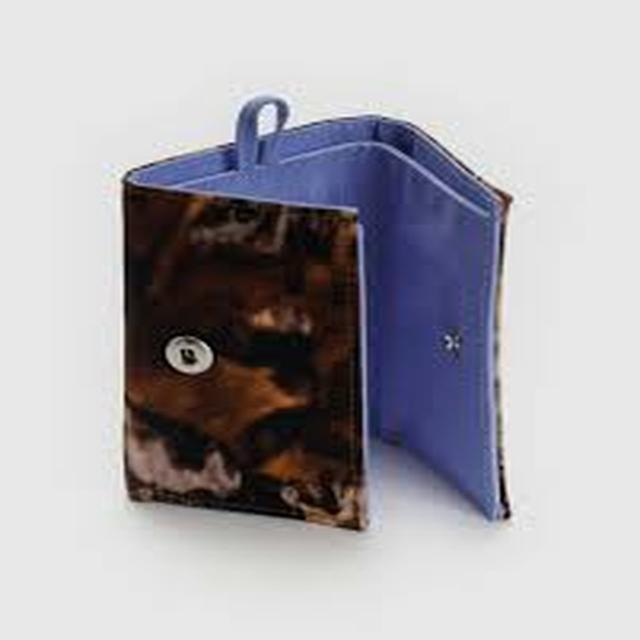wallet: (69, 147, 537, 569), (62, 104, 444, 552)
